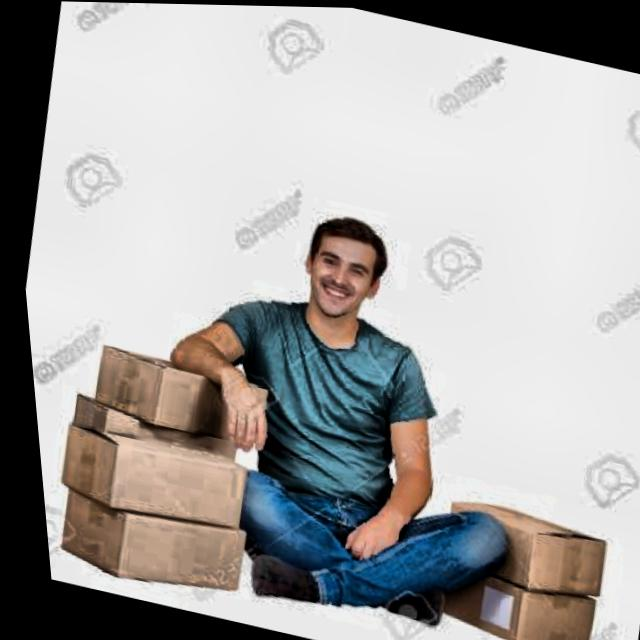Cardbox: (28, 332, 278, 607), (334, 473, 613, 640)
